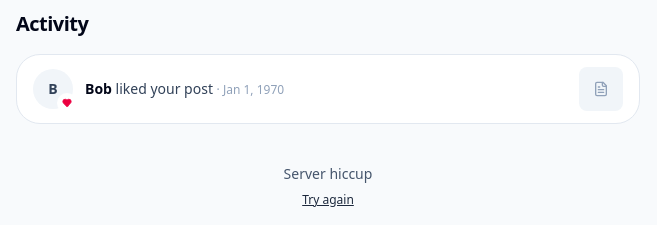
Scenario: /activity › shows a failed page with a retry
The image size is (657, 225).
Expected: the message shows "Server hiccup", [284, 164, 372, 183]
Click the button "Try again" at (328, 200), box [302, 192, 354, 208]
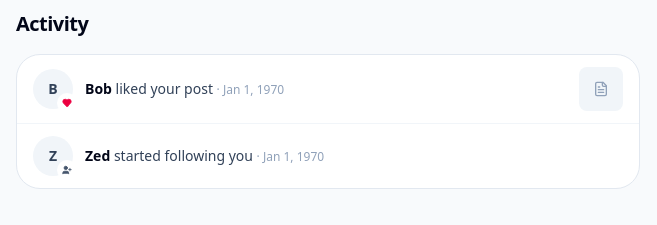
Now the link "Zed" is shown, box [85, 146, 110, 165]
